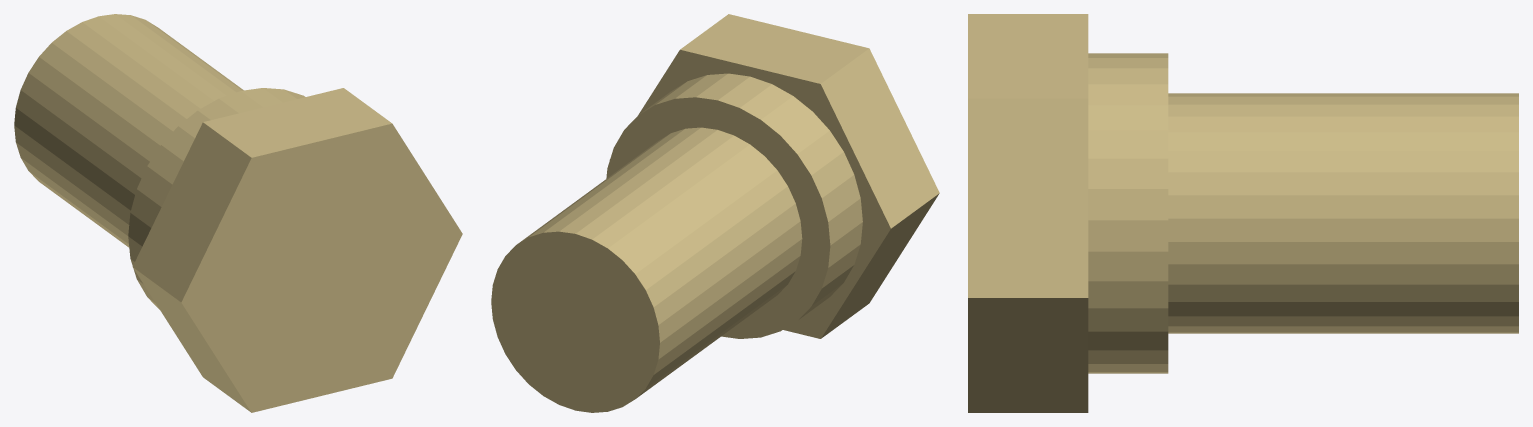
3 views of the same model, side by side, from view 1: azimuth 30°, elevation 25°; view 2: azimuth 150°, elevation 25°; view 3: azimuth 270°, elevation 25° (orthographic). The views are drawn at different scales.
Visible parts, largest first — view 1: world; view 2: world; view 3: world.
Boxes of the visible parts, x1,y1,x2,y2 form: world: (14, 14, 462, 412); world: (491, 14, 939, 412); world: (968, 14, 1518, 412).
Size of the model in its own units: 0.428 by 0.3707 by 0.5885.
